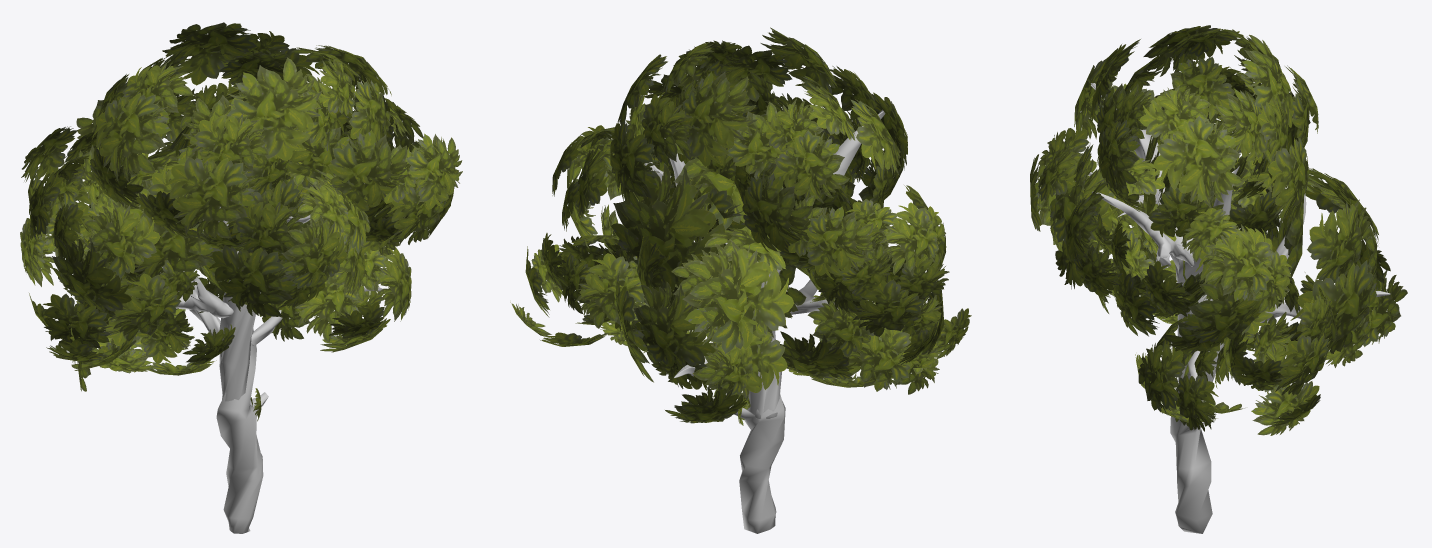
The model's file is SM_Prop_Tree2.fbx.
3 renders of one model, left to right at view 1: azimuth 30°, elevation 25°; view 2: azimuth 150°, elevation 25°; view 3: azimuth 270°, elevation 25°, orthographic. The views are drawn at different scales.
Visible parts, largest first — view 1: SM_Prop_Tree2; view 2: SM_Prop_Tree2; view 3: SM_Prop_Tree2.
Boxes of the visible parts, bbox=[...] form: SM_Prop_Tree2: bbox=[20, 22, 462, 533]; SM_Prop_Tree2: bbox=[510, 27, 971, 533]; SM_Prop_Tree2: bbox=[1030, 25, 1407, 533].
Bounding box in the file's own units: 8.08 × 8.93 × 6.64.
